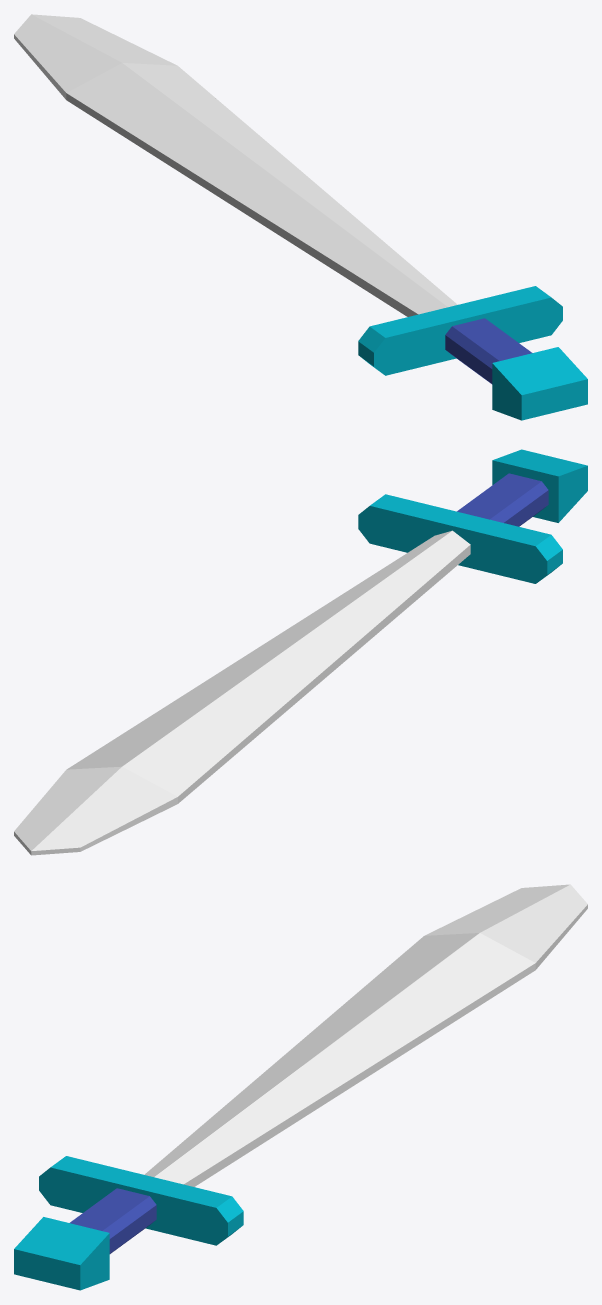
Rendered from Sword.fbx.
3 renders of one model, top to bottom at view 1: azimuth 30°, elevation 25°; view 2: azimuth 150°, elevation 25°; view 3: azimuth 330°, elevation 25°, orthographic.
Visible parts, largest first — view 1: Sword; view 2: Sword; view 3: Sword.
Boxes of the visible parts, <box> form: Sword: <box>14,14,587,420</box>; Sword: <box>14,449,587,855</box>; Sword: <box>14,884,587,1290</box>.
Bounding box in the file's own units: 15.5 × 3.67 × 74.4.
Materials: 1 (1 with a texture image).
